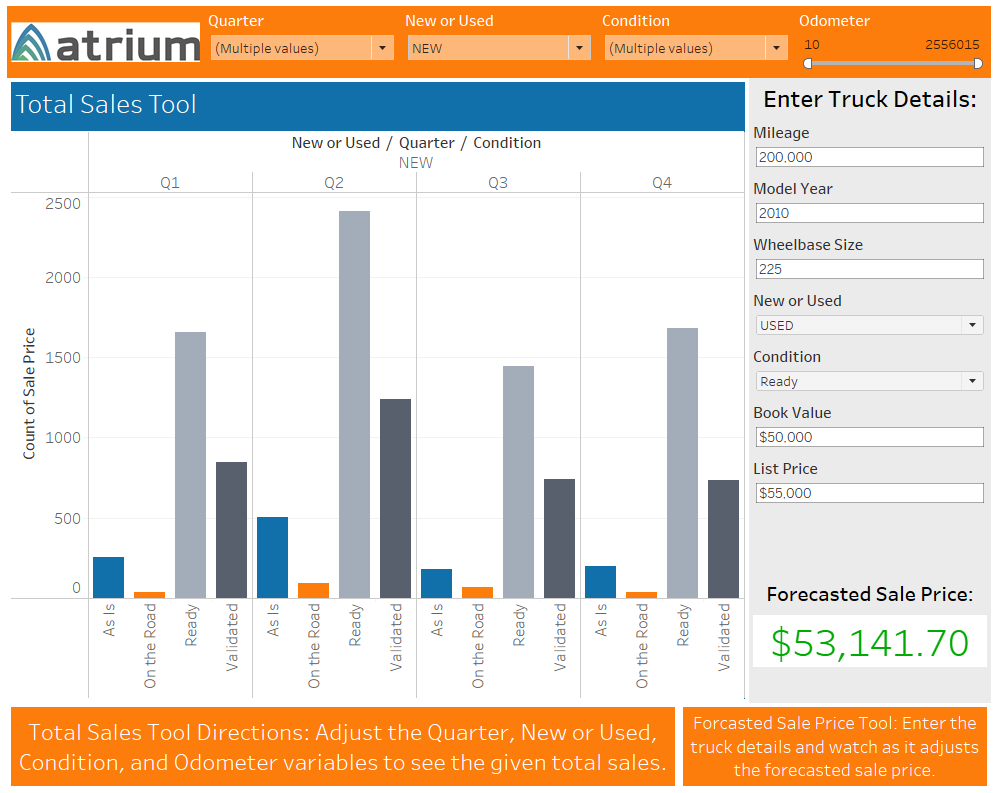

Layout of this report page (visuals, bound fields, positions):
{"tool":"tableau","page":{"name":"Dashboard 1","canvas":[1000,800],"ordinal":0},"visuals":[{"type":"worksheet","box":[0,0,1000,800]},{"type":"worksheet","param":"vert","box":[8,8,984,784]},{"type":"worksheet","param":"vert","box":[8,8,984,784]},{"type":"worksheet","param":"horz","box":[8,8,984,784]},{"type":"worksheet","box":[8,8,984,784]},{"type":"worksheet","param":"horz","box":[8,8,984,72]},{"type":"worksheet","param":"C:/Users/benga/OneDrive/Pictures/atrium.jpg","box":[8,8,197,72]},{"type":"worksheet","title":"Sheet 2 (3)","mark":"Automatic","rows":["Sale_Price"],"cols":["New_or_Used","Quarter","Condition"],"param":"[federated.1xgjulp0x1rezl10rabwg052hbes].[none:Quarter:nk]","box":[205,8,197,72]},{"type":"worksheet","title":"Sheet 2 (3)","mark":"Automatic","rows":["Sale_Price"],"cols":["New_or_Used","Quarter","Condition"],"param":"[federated.1xgjulp0x1rezl10rabwg052hbes].[none:New_or_Used:nk]","box":[402,8,197,72]},{"type":"worksheet","title":"Sheet 2 (3)","mark":"Automatic","rows":["Sale_Price"],"cols":["New_or_Used","Quarter","Condition"],"param":"[federated.1xgjulp0x1rezl10rabwg052hbes].[none:Condition:nk]","box":[599,8,197,72]},{"type":"worksheet","title":"Sheet 2 (3)","mark":"Automatic","rows":["Sale_Price"],"cols":["New_or_Used","Quarter","Condition"],"param":"[federated.1xgjulp0x1rezl10rabwg052hbes].[none:Odometer:qk]","box":[796,8,196,72]},{"type":"worksheet","title":"Sheet 2 (3)","mark":"Automatic","rows":["Sale_Price"],"cols":["New_or_Used","Quarter","Condition"],"box":[8,80,742,624.9]},{"type":"worksheet","param":"vert","box":[750,80,242,624.9]},{"type":"worksheet","box":[750,80,242,40]},{"type":"worksheet","param":"[Parameters].[Parameter 1]","box":[750,120,242,56]},{"type":"worksheet","param":"[Parameters].[Parameter 4]","box":[750,176,242,56]},{"type":"worksheet","param":"[Parameters].[Parameter 5]","box":[750,232,242,56]},{"type":"worksheet","param":"[Parameters].[Parameter 3]","box":[750,288,242,56]},{"type":"worksheet","param":"[Parameters].[Parameter 2]","box":[750,344,242,56]},{"type":"worksheet","param":"[Parameters].[Parameter 6]","box":[750,400,242,56]},{"type":"worksheet","param":"[Parameters].[Parameter 7]","box":[750,456,242,56]},{"type":"worksheet","box":[750,512,242,65]},{"type":"worksheet","box":[750,577,242,36]},{"type":"worksheet","title":"Sheet 5","mark":"Automatic","box":[750,613,242,59.9]},{"type":"worksheet","box":[750,672.9,242,32]},{"type":"worksheet","box":[8,704.9,672,87.1]},{"type":"worksheet","box":[680,704.9,312,87.1]}]}

Visuals, with their boxes in screenshot pixels (x1, y1, x2, y2), scaled from the page's 1000x800 canvas onto the 995x793 screenshot:
worksheet: 0 0 994 792
worksheet: 8 8 987 785
worksheet: 8 8 987 785
worksheet: 8 8 987 785
worksheet: 8 8 987 785
worksheet: 8 8 987 79
worksheet: 8 8 204 79
"Sheet 2 (3)" worksheet: 204 8 400 79
"Sheet 2 (3)" worksheet: 400 8 596 79
"Sheet 2 (3)" worksheet: 596 8 792 79
"Sheet 2 (3)" worksheet: 792 8 987 79
"Sheet 2 (3)" worksheet: 8 79 746 699
worksheet: 746 79 987 699
worksheet: 746 79 987 119
worksheet: 746 119 987 174
worksheet: 746 174 987 230
worksheet: 746 230 987 285
worksheet: 746 285 987 341
worksheet: 746 341 987 396
worksheet: 746 396 987 452
worksheet: 746 452 987 508
worksheet: 746 508 987 572
worksheet: 746 572 987 608
"Sheet 5" worksheet: 746 608 987 667
worksheet: 746 667 987 699
worksheet: 8 699 677 785
worksheet: 677 699 987 785
